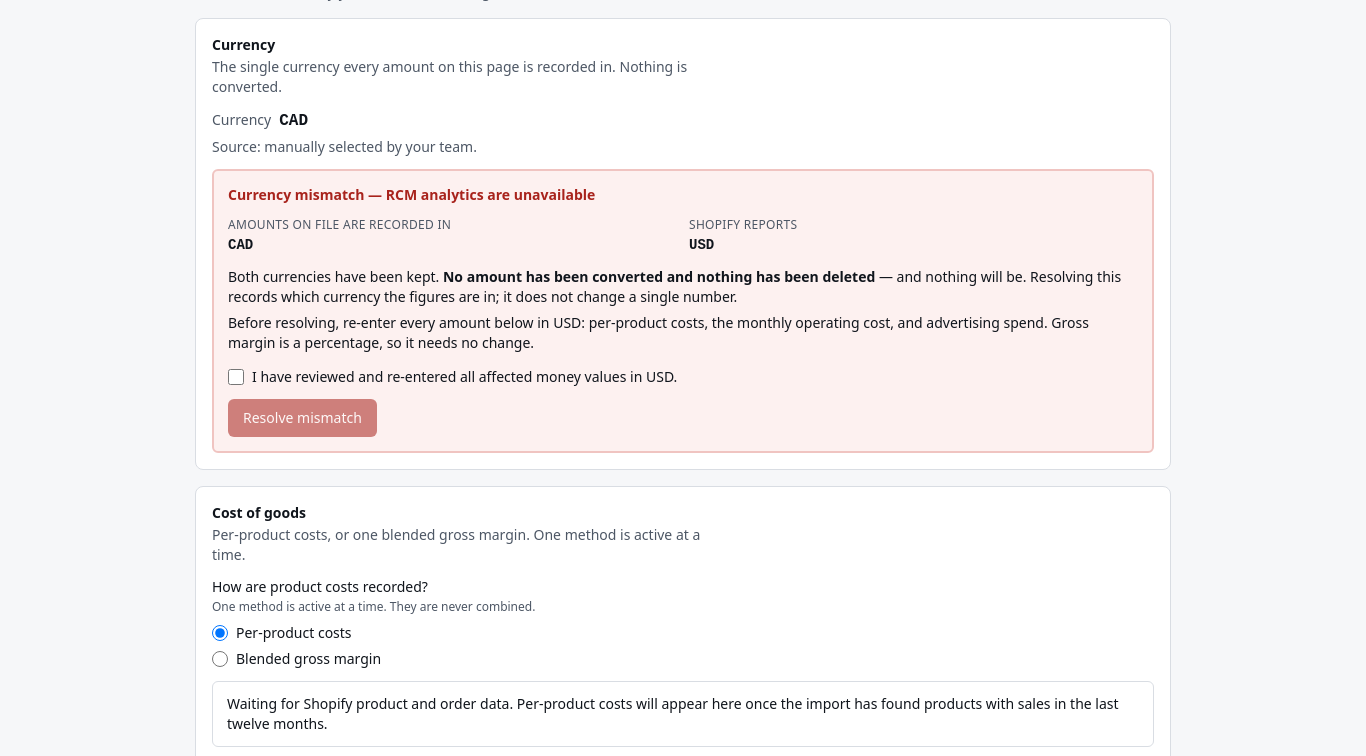
Test: the currency control › a mismatch › blocks resolution until the acknowledgement is ticked
(page scrolled)
Check: the button "Resolve mismatch" is disabled, box [228, 399, 377, 437]
Click the checkbox labelled "I have reviewed and re-entered all affected money values in USD". click: (236, 377)
box: [228, 369, 244, 385]
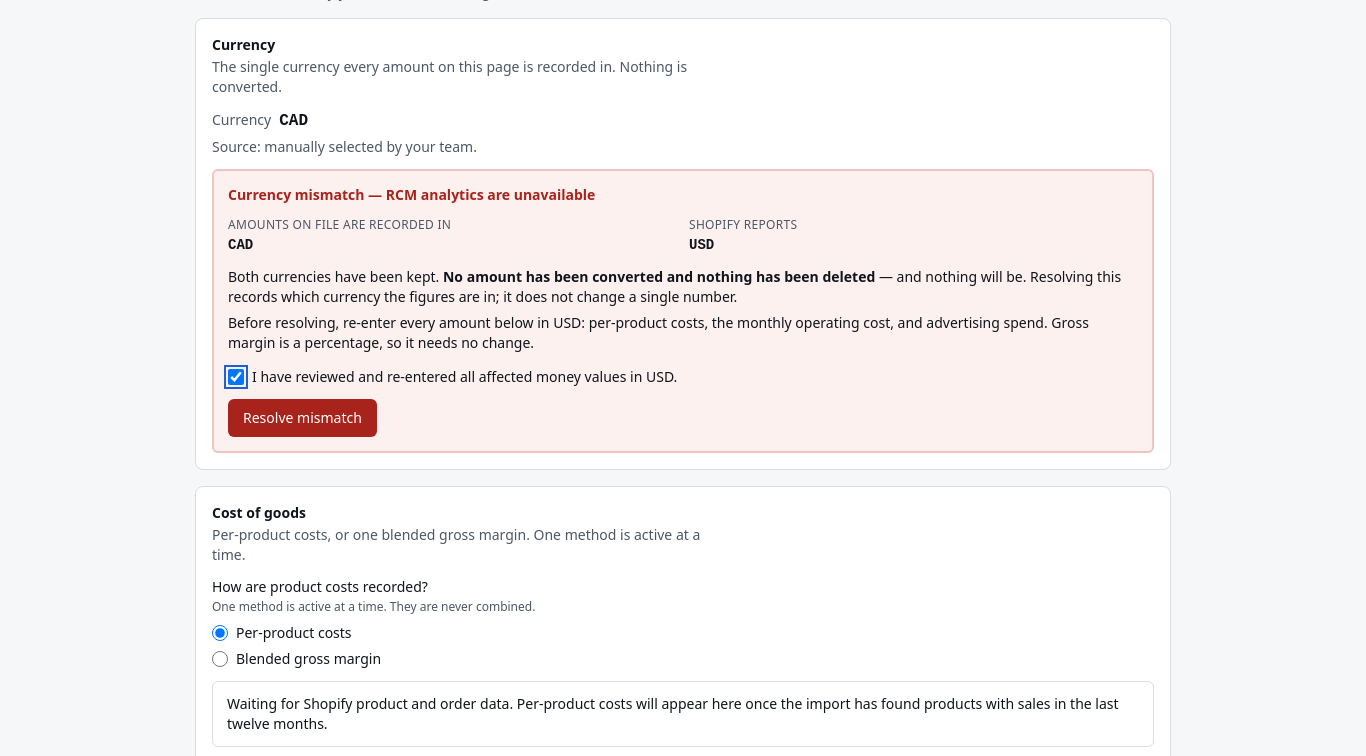
Check: the button "Resolve mismatch" is enabled, box [228, 399, 377, 437]
